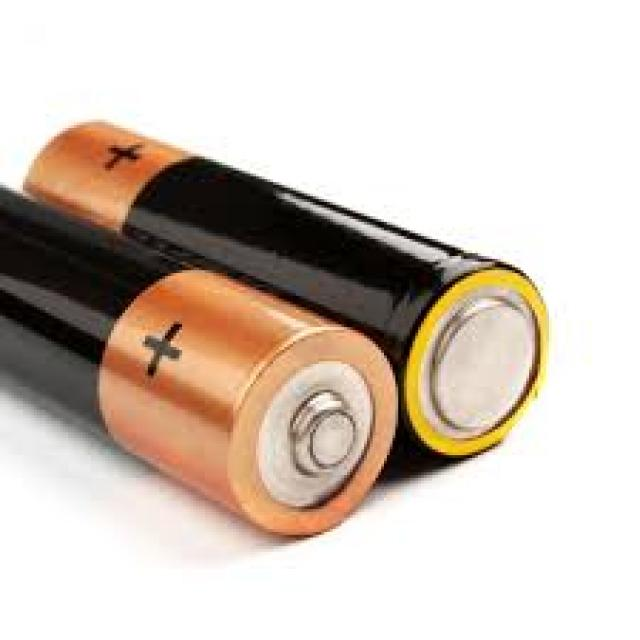non-organic waste: (26, 118, 557, 461), (0, 187, 403, 559)
